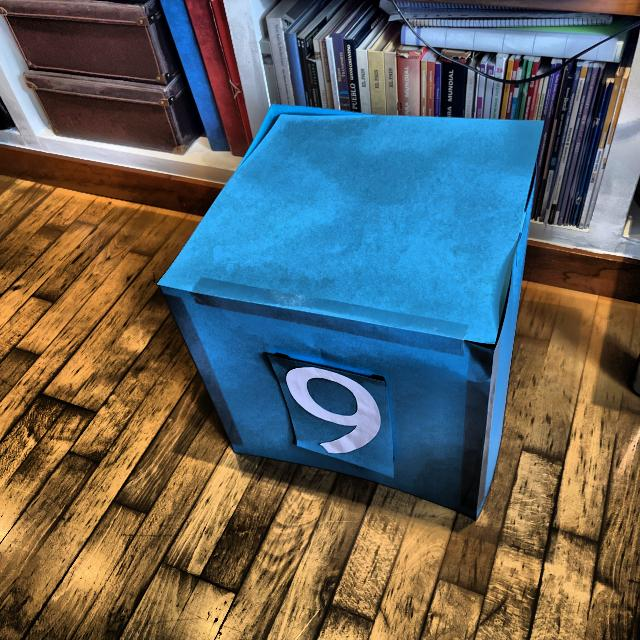blue box: (154, 96, 542, 519)
nine: (282, 362, 390, 461)
